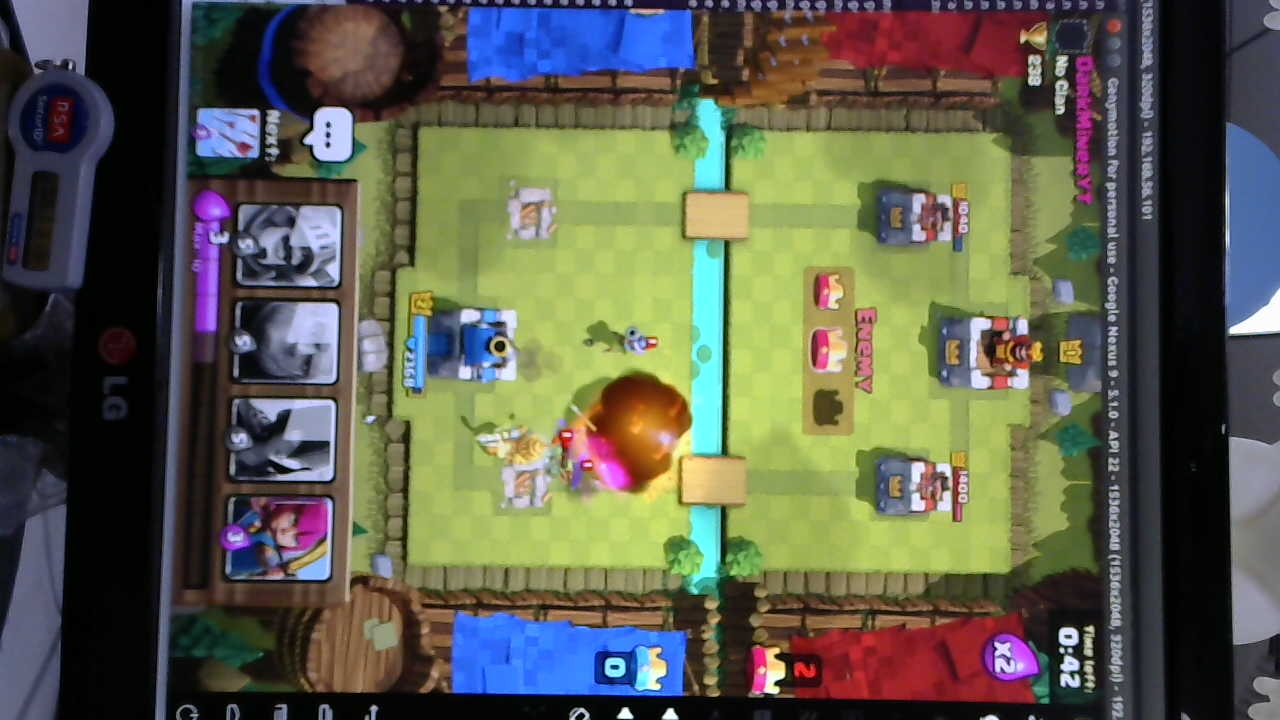darena: (490, 442, 548, 511), (505, 182, 562, 247)
earena: (874, 451, 954, 520), (873, 187, 954, 248)
eking: (939, 313, 1037, 395)
king: (430, 299, 523, 386)
musketeer: (607, 324, 657, 355)
prince: (479, 423, 556, 469)
